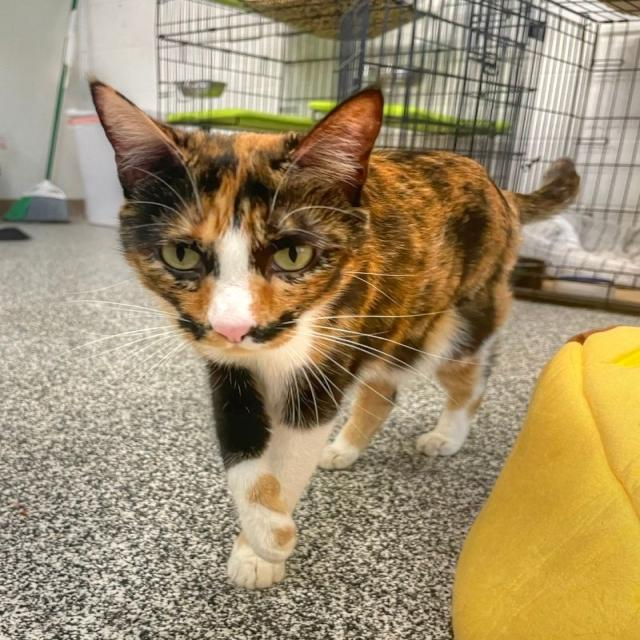calico_cat: (80, 69, 404, 377)
